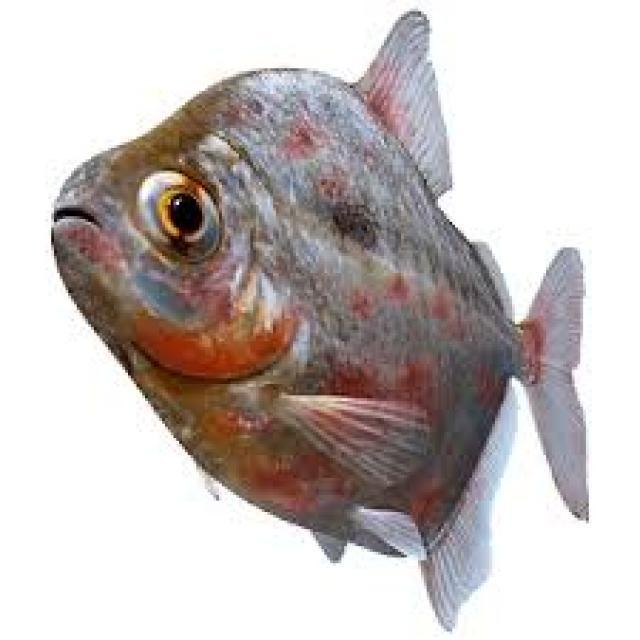EUS Disease: (38, 13, 612, 550)
